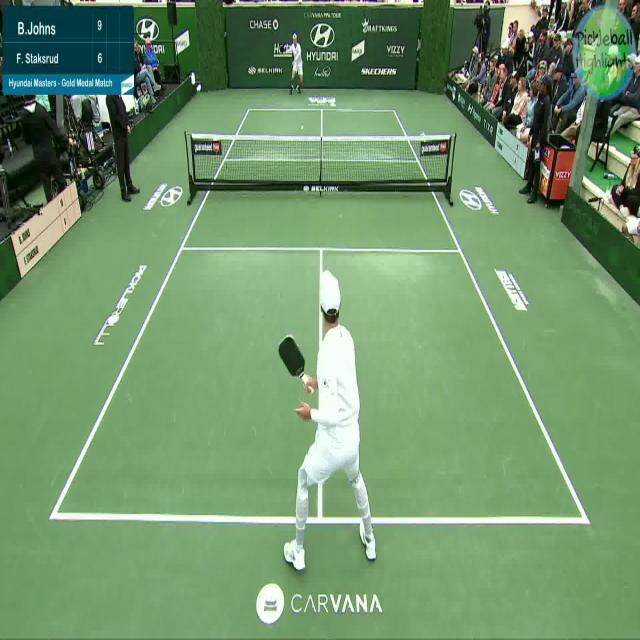Court: (50, 112, 587, 523)
ball: (299, 116, 306, 134)
